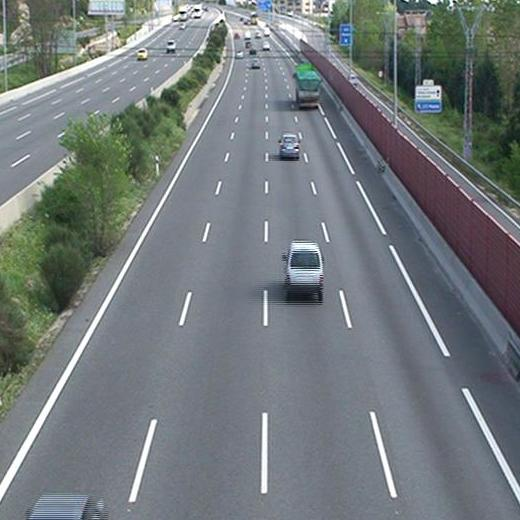car: (277, 132, 301, 160), (250, 58, 261, 69)
truck: (293, 63, 323, 109)
van: (282, 240, 326, 298)
